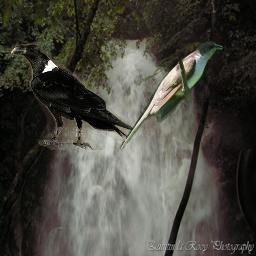Crow: (10, 44, 135, 150)
Cuckoo: (119, 41, 222, 150)
